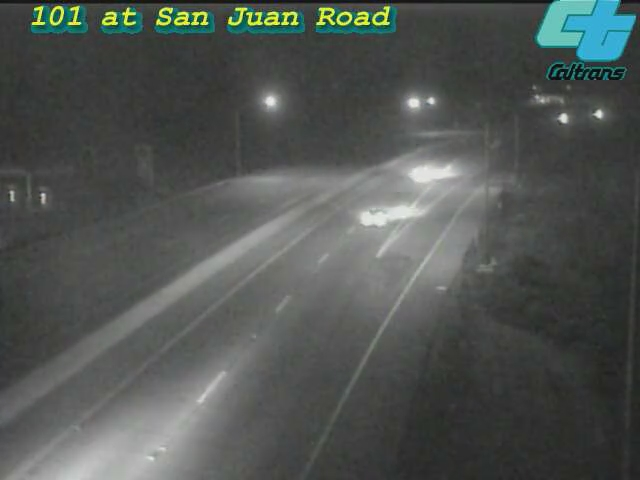vehicle: (384, 133, 464, 213), (332, 178, 412, 258), (539, 93, 589, 143), (575, 90, 625, 140)
